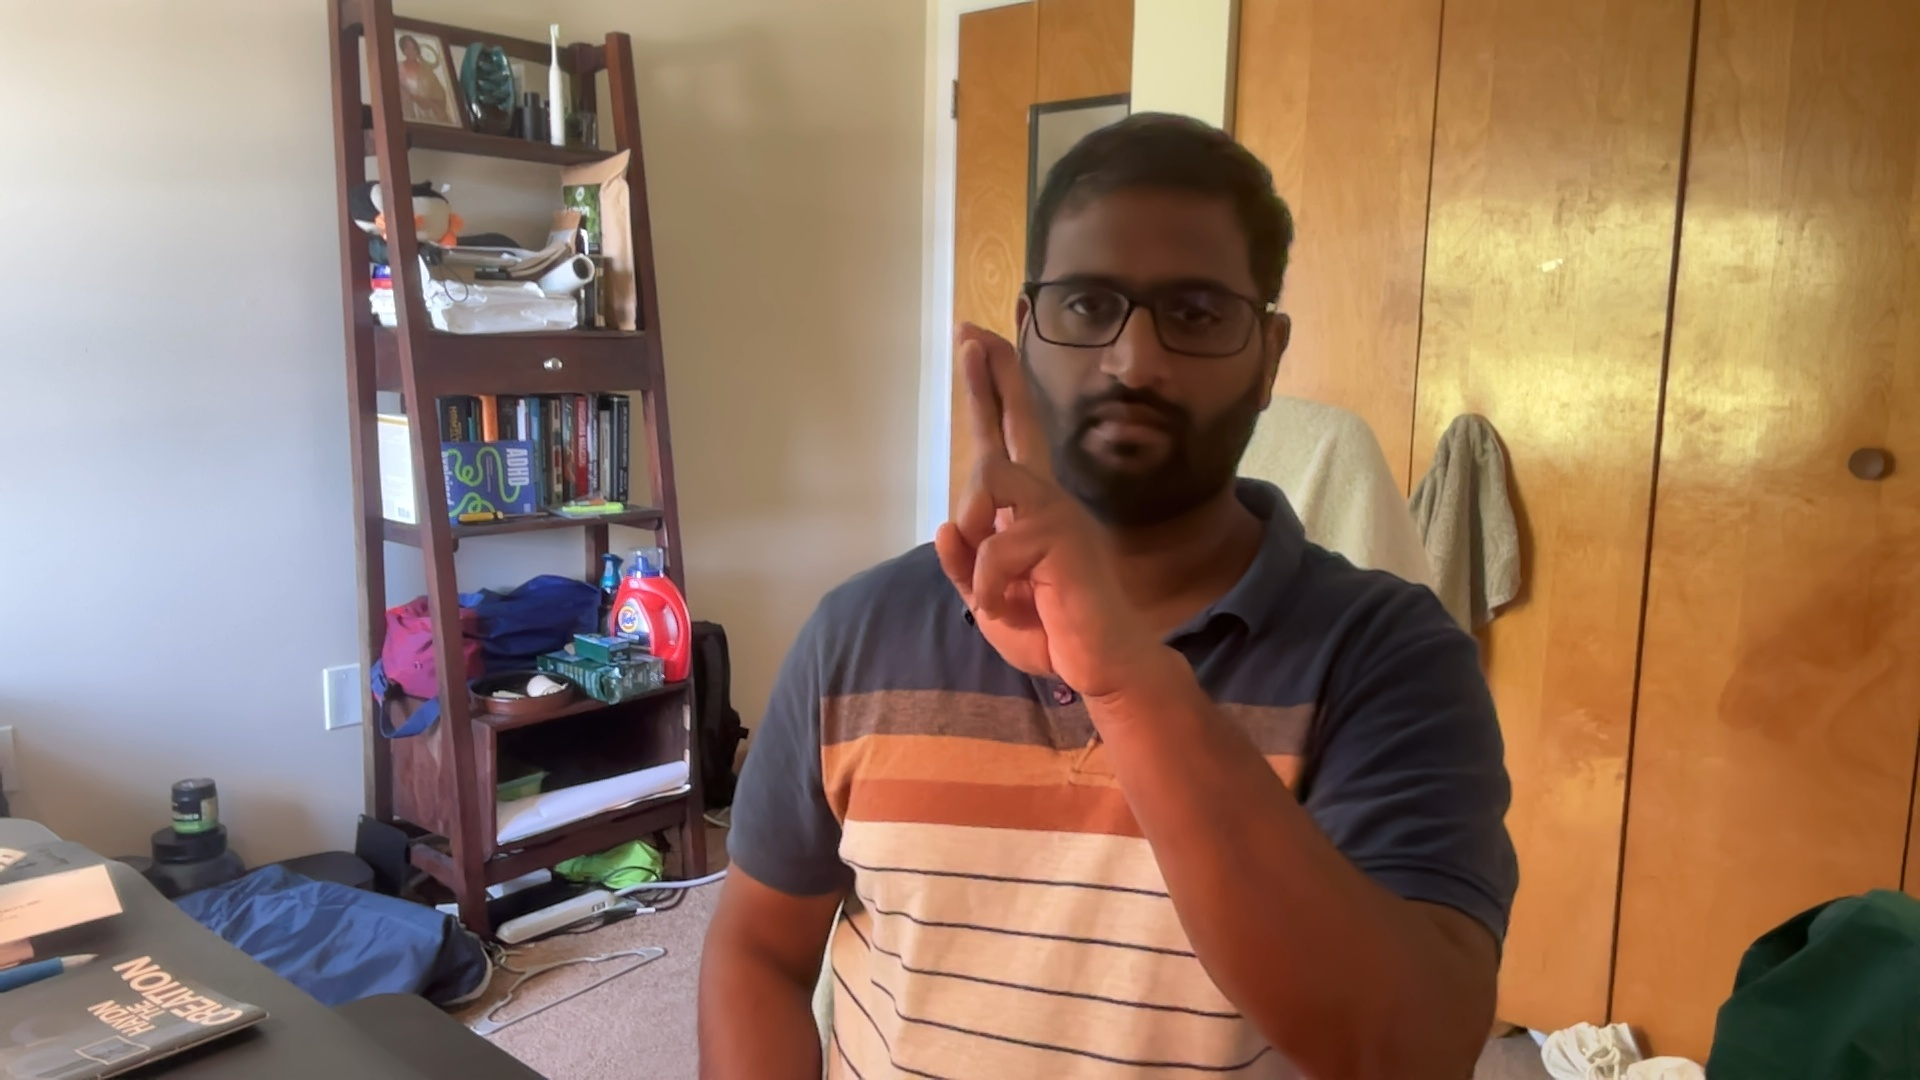FingersCross: (935, 320, 1118, 691)
